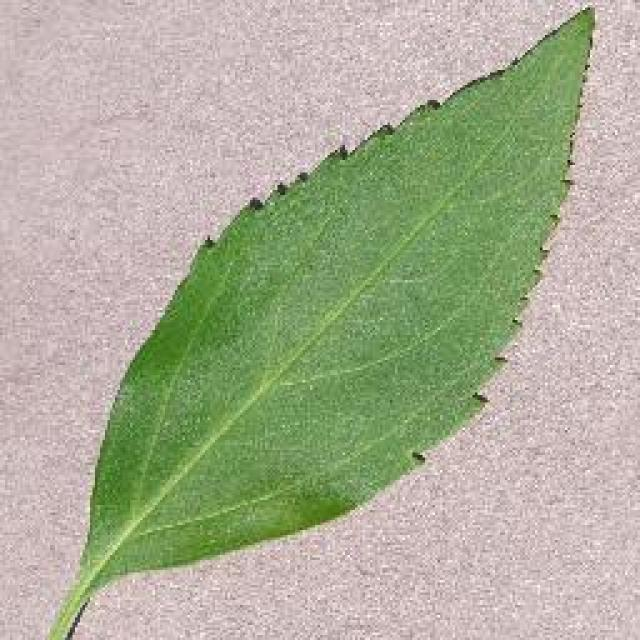Cherry___healthy: (20, 7, 605, 640)
